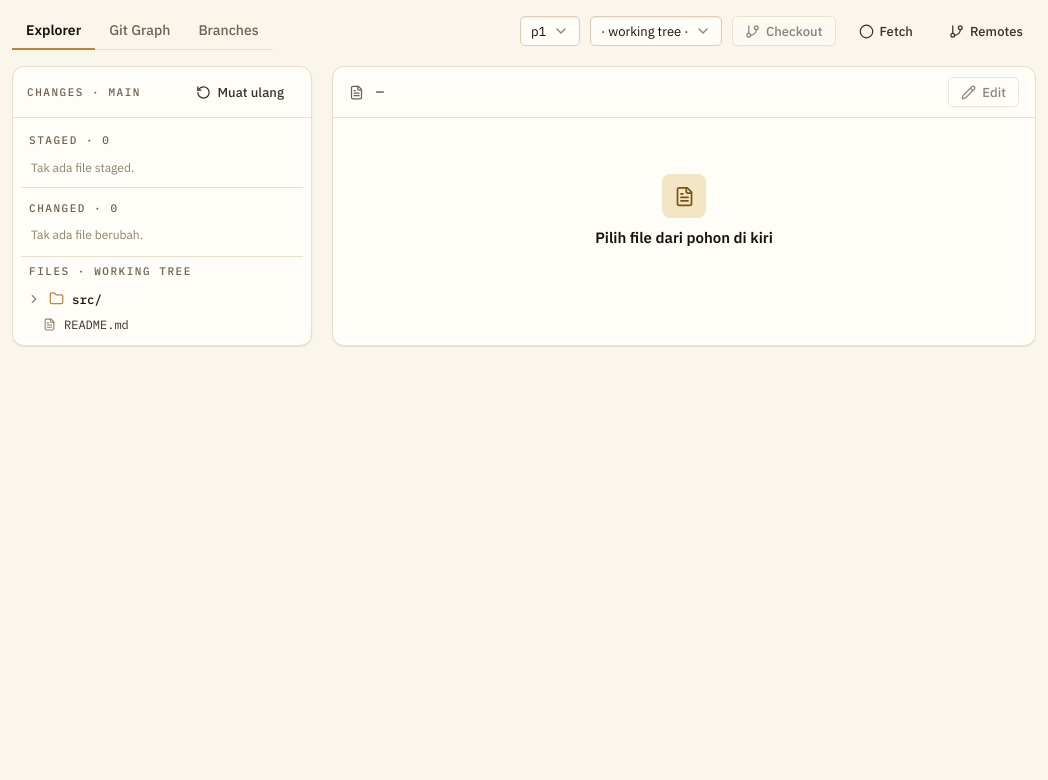
Test case: IdeScreen preview .md (SPEC-240) › edit .md → Simpan → kembali ke preview
Click the button "README.md" at (96,324), box x1=21 y1=312 x2=303 y2=336
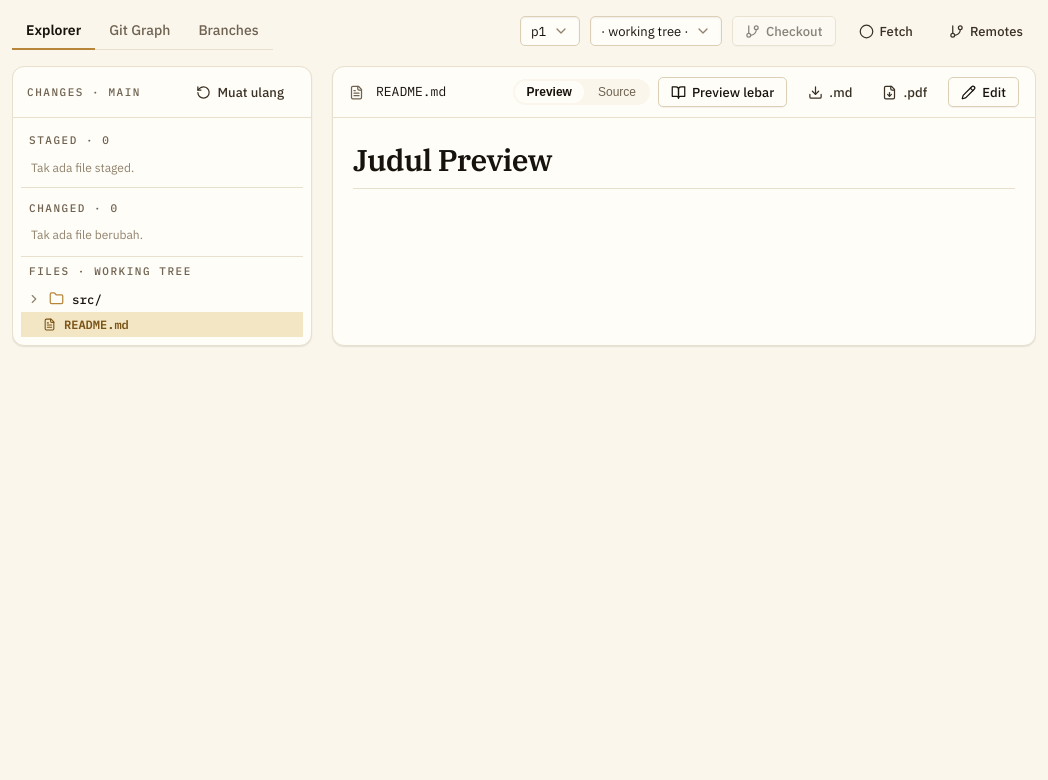
Click the button "Edit" at (984,92), box x1=948 y1=77 x2=1019 y2=107
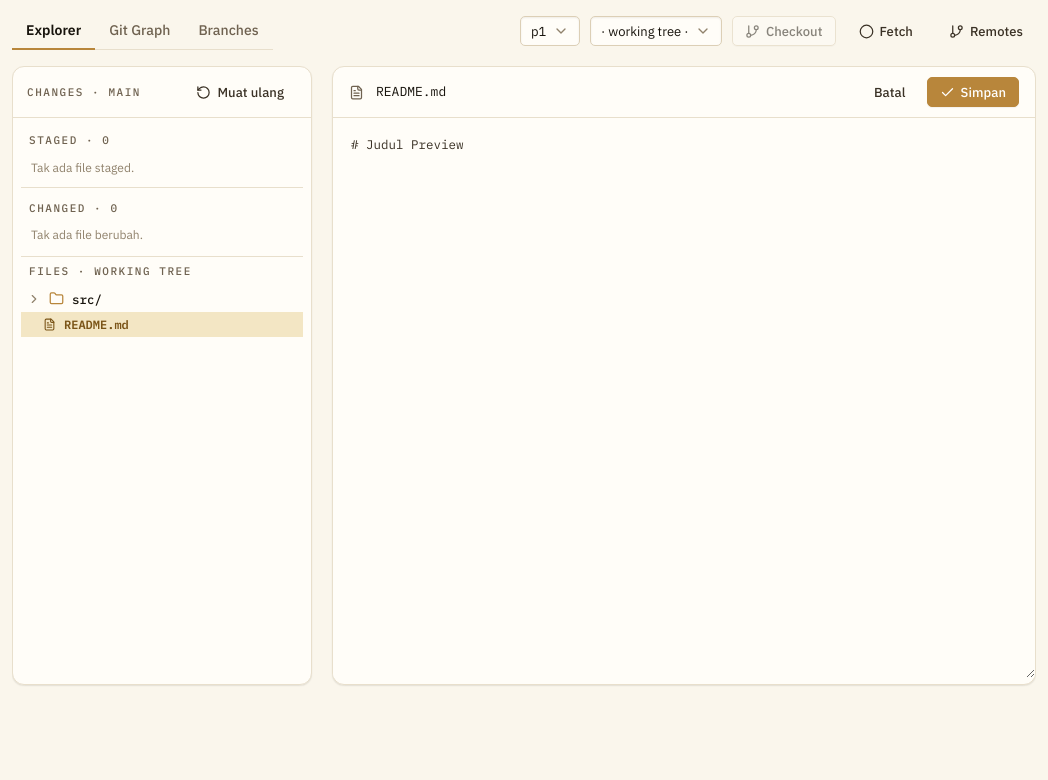
Replace the text in the text box with "# Judul Baru" at (684,398), box x1=333 y1=118 x2=1035 y2=678
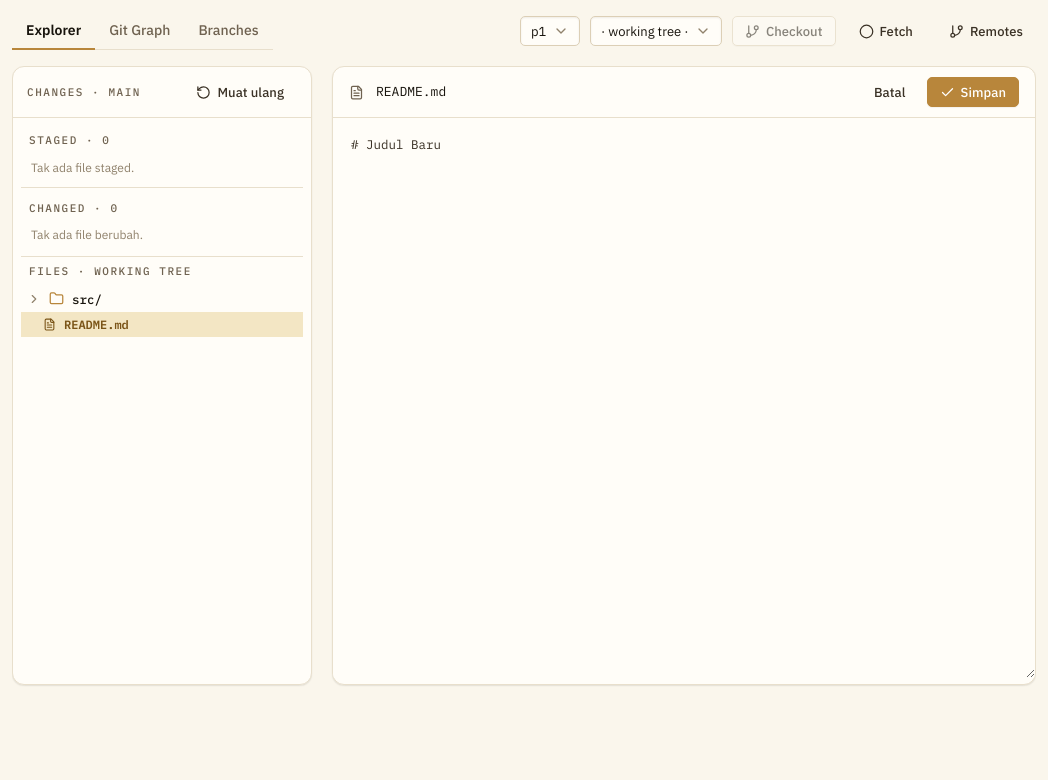
Click the button "Simpan" at (973,92), box x1=926 y1=77 x2=1019 y2=107
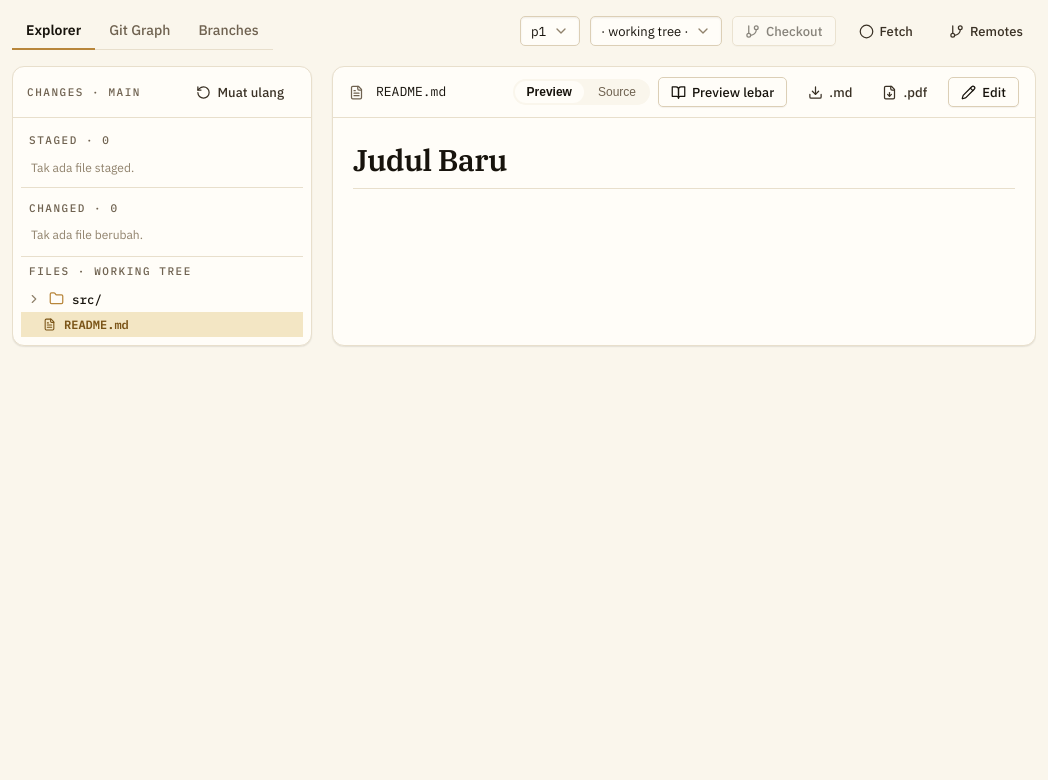
Check: the heading "Judul Baru" is shown, box x1=353 y1=142 x2=1015 y2=189
